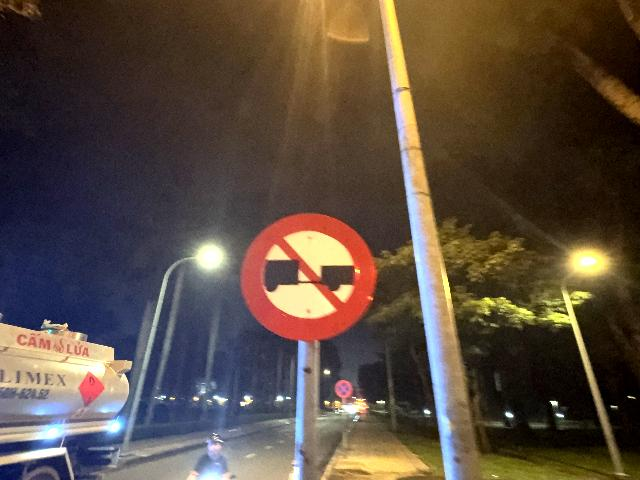cam-xe-somi-romooc: (241, 213, 377, 341)
